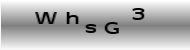3: (131, 7, 144, 20)
G: (104, 21, 119, 34)
W: (34, 11, 57, 24)
h: (65, 11, 78, 24)
s: (84, 23, 96, 33)
